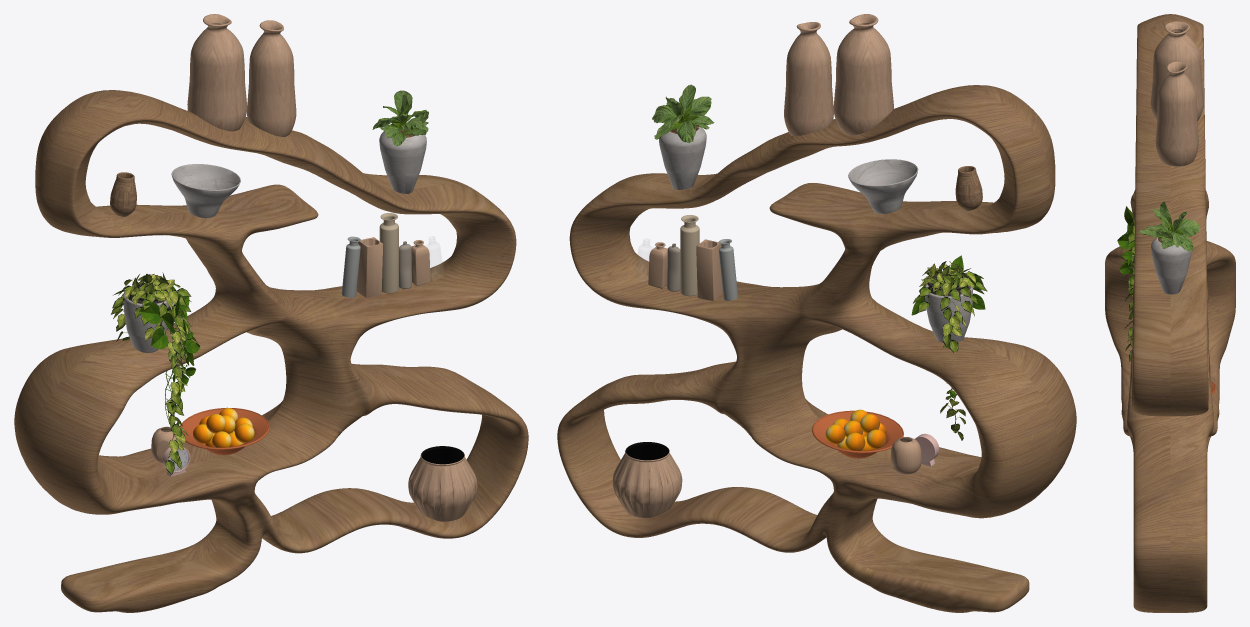
File: bookcase.glb
3 renders of one model, left to right at view 1: azimuth 30°, elevation 25°; view 2: azimuth 150°, elevation 25°; view 3: azimuth 270°, elevation 25°, orthographic. The views are drawn at different scales.
Visible parts, largest first — view 1: Cube_Oakwood_0, Cylinder.002_WoodVeneer_0, Cylinder.007_PolishedQuartize_0, Cylinder.003_Bottle2_0, Plant1_leaf2_smaller_clean_0, Plant1_leaf1_smaller_clean_0, Plant1_Color_F18_0, Cylinder.001_Orange_0, Plant2_Material__7_0, Cylinder.001_Material_0, Cylinder.008_Wood2V_0; view 2: Cube_Oakwood_0, Cylinder.002_WoodVeneer_0, Cylinder.007_PolishedQuartize_0, Cylinder.003_Bottle2_0, Plant2_Material__7_0, Cylinder.001_Orange_0, Plant1_leaf2_smaller_clean_0, Cylinder.001_Material_0, Plant1_leaf1_smaller_clean_0, Cylinder.008_Wood2V_0; view 3: Cube_Oakwood_0, Cylinder.002_WoodVeneer_0, Cylinder.007_PolishedQuartize_0, Plant2_Material__7_0, Plant1_Color_F18_0, Plant1_leaf2_smaller_clean_0.
Boxes of the visible parts, x1,y1,x2,y2 form: Cube_Oakwood_0: [14, 90, 528, 612]; Cylinder.002_WoodVeneer_0: [151, 14, 477, 521]; Cylinder.007_PolishedQuartize_0: [123, 129, 426, 352]; Cylinder.003_Bottle2_0: [341, 213, 412, 297]; Plant1_leaf2_smaller_clean_0: [111, 274, 191, 474]; Plant1_leaf1_smaller_clean_0: [113, 272, 188, 459]; Plant1_Color_F18_0: [139, 283, 200, 425]; Cylinder.001_Orange_0: [193, 408, 254, 447]; Plant2_Material__7_0: [372, 90, 428, 146]; Cylinder.001_Material_0: [180, 407, 269, 455]; Cylinder.008_Wood2V_0: [110, 172, 136, 216]; Cube_Oakwood_0: [557, 85, 1076, 612]; Cylinder.002_WoodVeneer_0: [612, 14, 921, 518]; Cylinder.007_PolishedQuartize_0: [659, 126, 973, 342]; Cylinder.003_Bottle2_0: [667, 215, 737, 300]; Plant2_Material__7_0: [652, 84, 714, 142]; Cylinder.001_Orange_0: [825, 409, 886, 450]; Plant1_leaf2_smaller_clean_0: [913, 261, 987, 440]; Cylinder.001_Material_0: [812, 410, 903, 458]; Plant1_leaf1_smaller_clean_0: [919, 261, 975, 432]; Cylinder.008_Wood2V_0: [955, 166, 982, 210]; Cube_Oakwood_0: [1105, 14, 1235, 612]; Cylinder.002_WoodVeneer_0: [1150, 21, 1203, 166]; Cylinder.007_PolishedQuartize_0: [1151, 234, 1191, 294]; Plant2_Material__7_0: [1139, 201, 1200, 251]; Plant1_Color_F18_0: [1117, 206, 1134, 297]; Plant1_leaf2_smaller_clean_0: [1124, 219, 1134, 361].
Bounding box in the file's own units: 2.22 × 2.48 × 0.6015.
17 materials, 17 textured.
